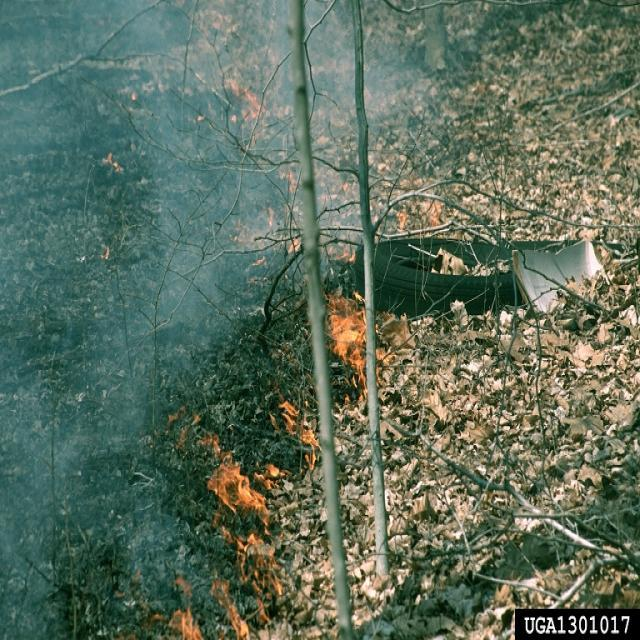Fire: (169, 291, 393, 640)
